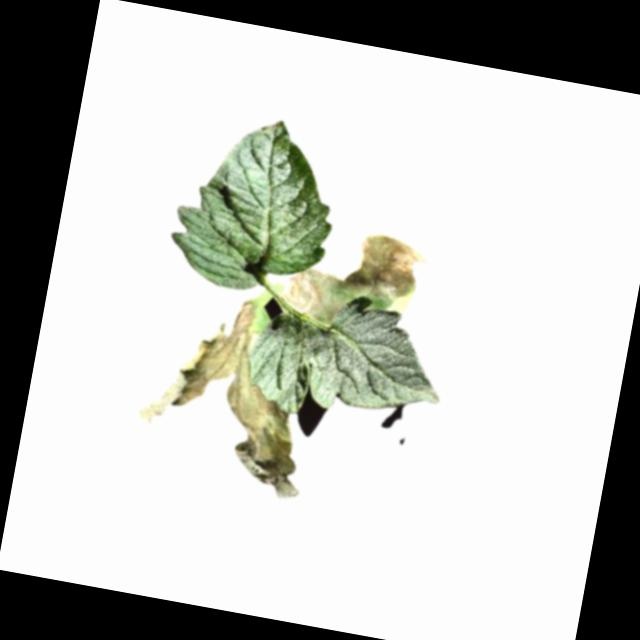Late_blight: (126, 279, 335, 503), (276, 217, 431, 340)
